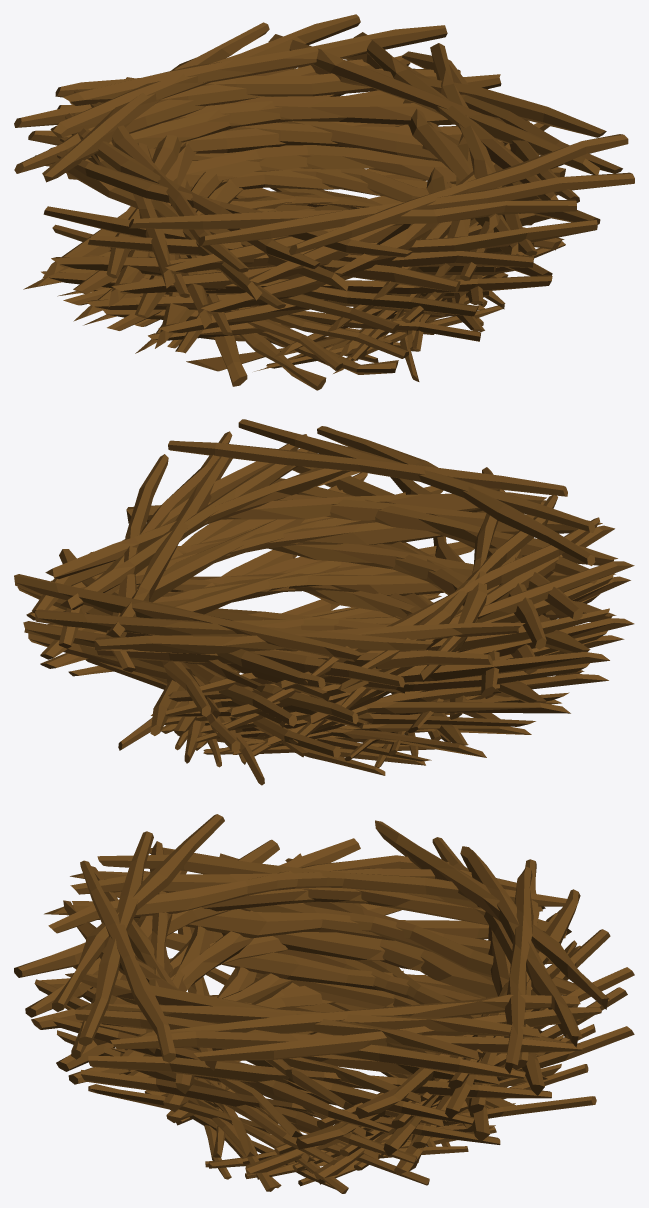
The model's file is Nest.fbx.
3 views of the same model, one above another, from view 1: azimuth 30°, elevation 25°; view 2: azimuth 150°, elevation 25°; view 3: azimuth 270°, elevation 25° (orthographic). The views are drawn at different scales.
Visible parts, largest first — view 1: Nest; view 2: Nest; view 3: Nest.
Part boxes in pixels (x1=…): Nest: x1=14, y1=14, x2=634, y2=390; Nest: x1=14, y1=419, x2=634, y2=785; Nest: x1=14, y1=814, x2=634, y2=1193.
Size of the model in its own units: 159 by 52.87 by 158.
